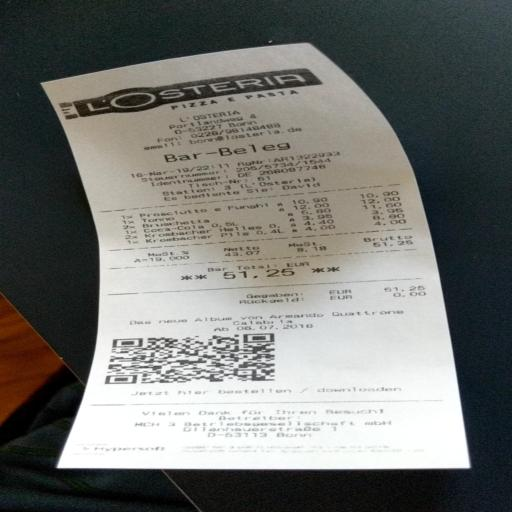paper: (26, 22, 512, 512)
